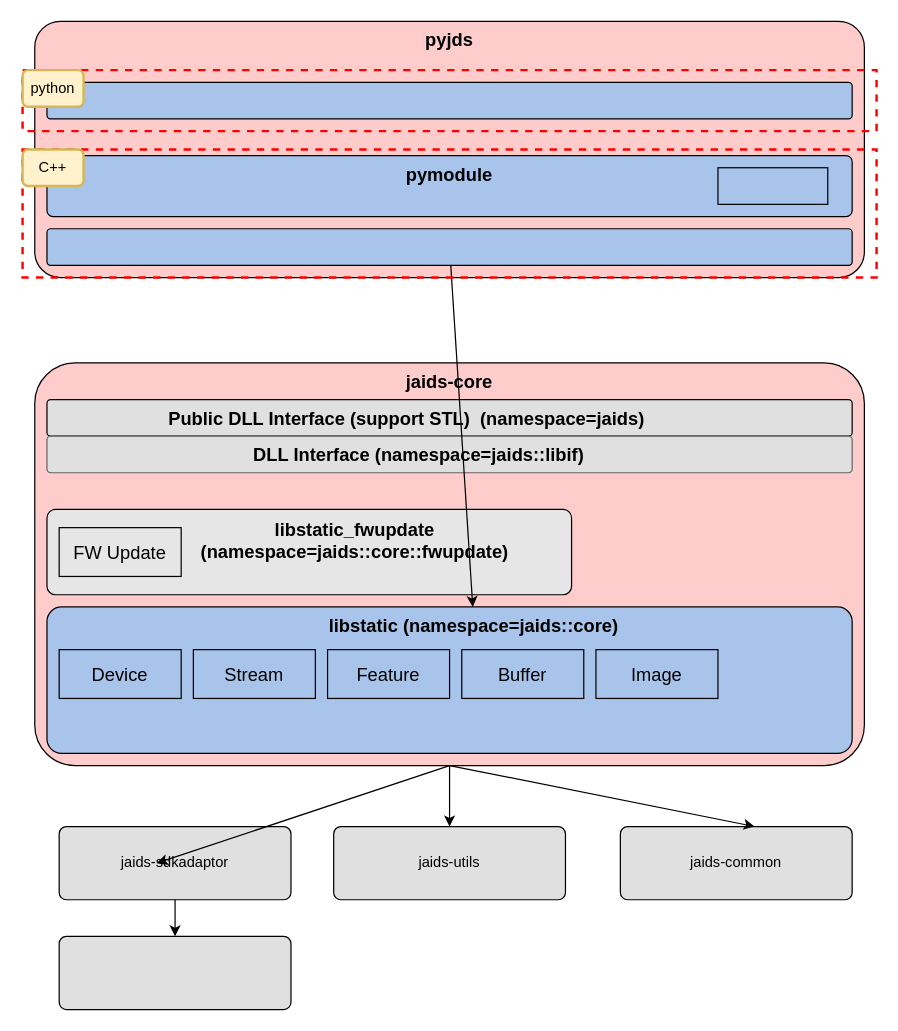
This 898x1031 diagram has some shape labels left out. Each missing label, with the box of its shape:
eBUS SDK for JAI: (58, 935, 291, 1010)
libcpp: (46, 228, 852, 265)
pybind11: (717, 167, 828, 204)
python interface: (21, 68, 877, 132)
